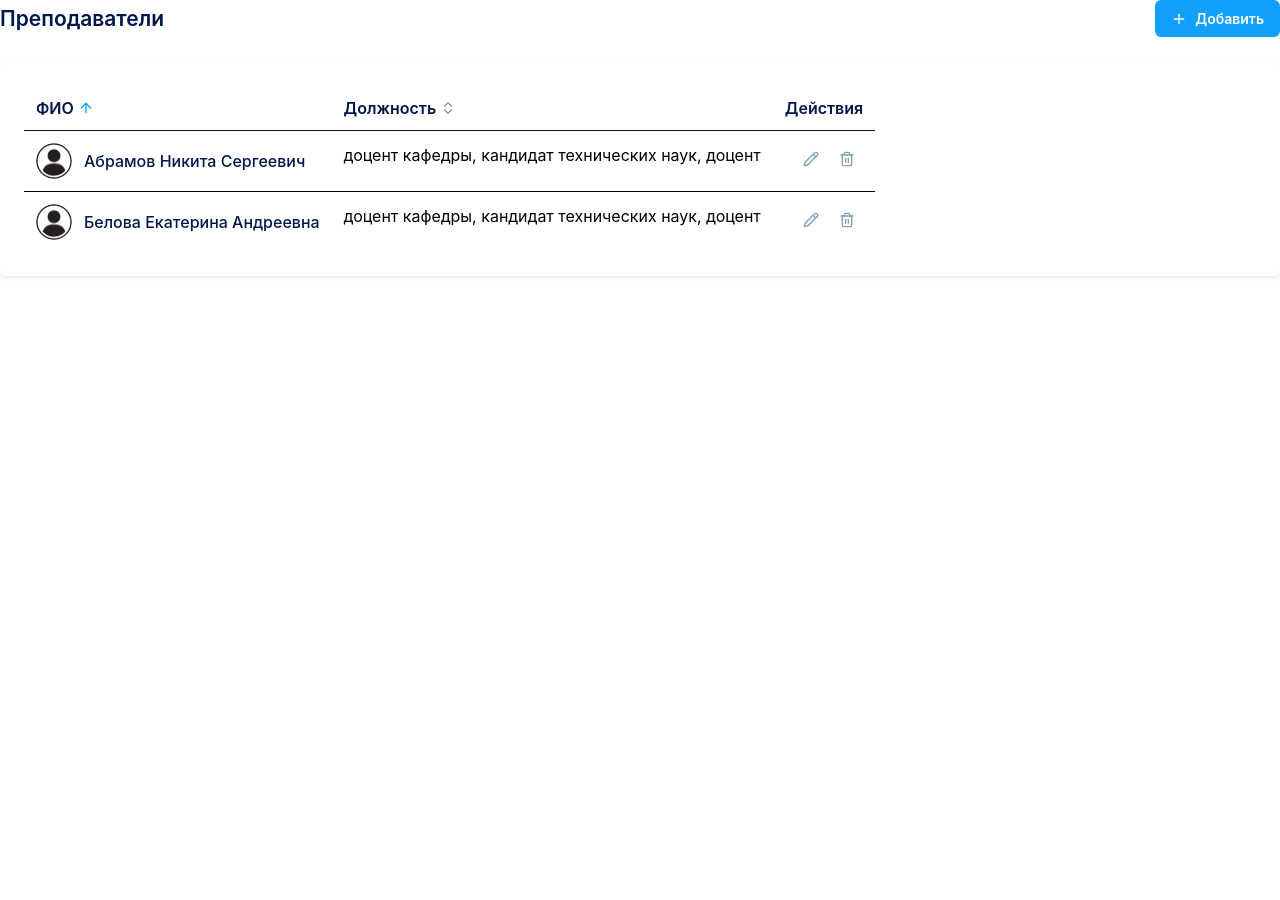
Scenario: AdminTeachersPage, удаление › перечисляет последствия удаления поимённо
Expected: the cell "Абрамов Никита Сергеевич" is shown, [24,130,332,192]
Click the button named "Удалить карточку «Абрамов Никита Сергеевич»".
click(847, 159)  # box [831,143,863,175]
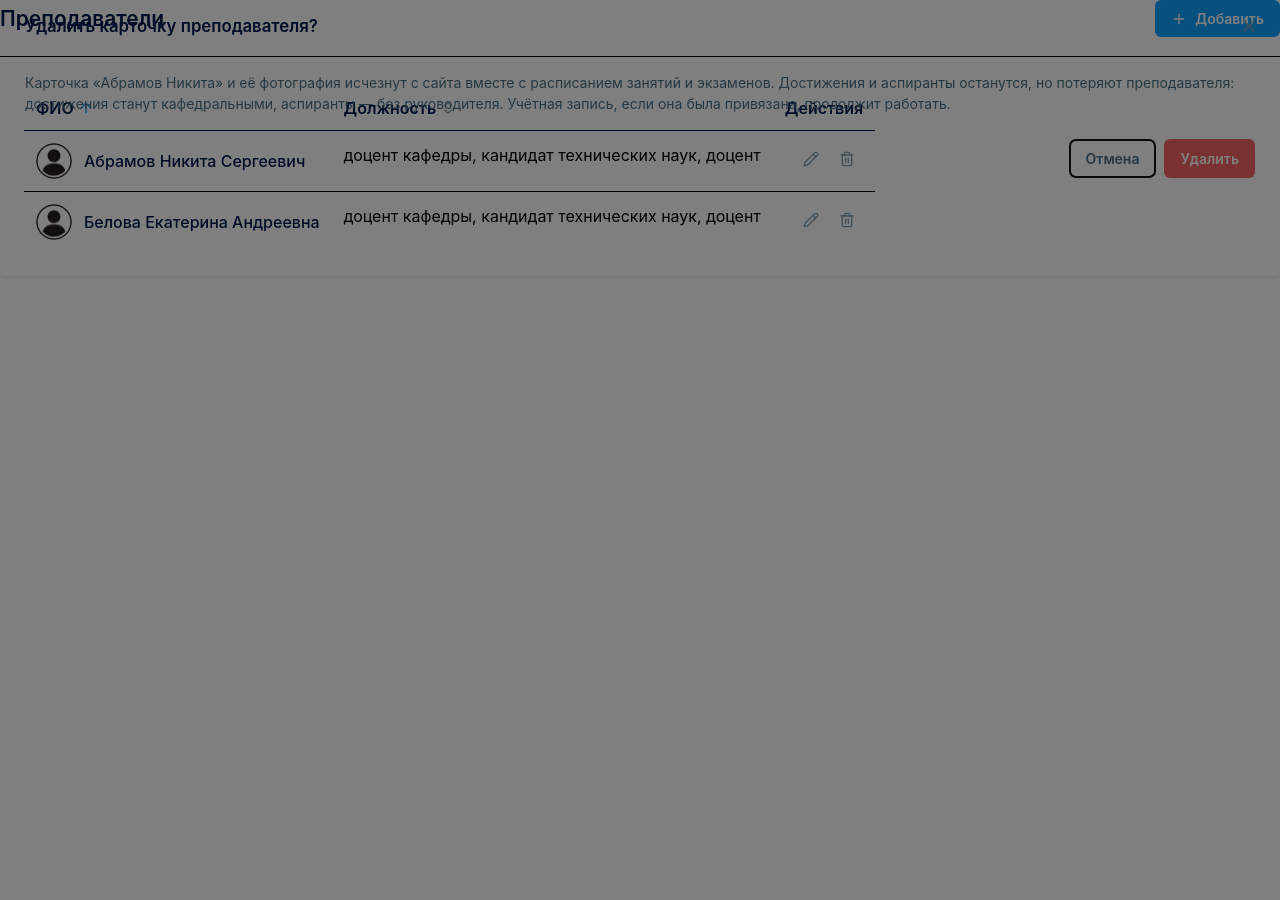
Expected: the text "аспиранты — без руководителя" is shown, [25,74,1234,112]
